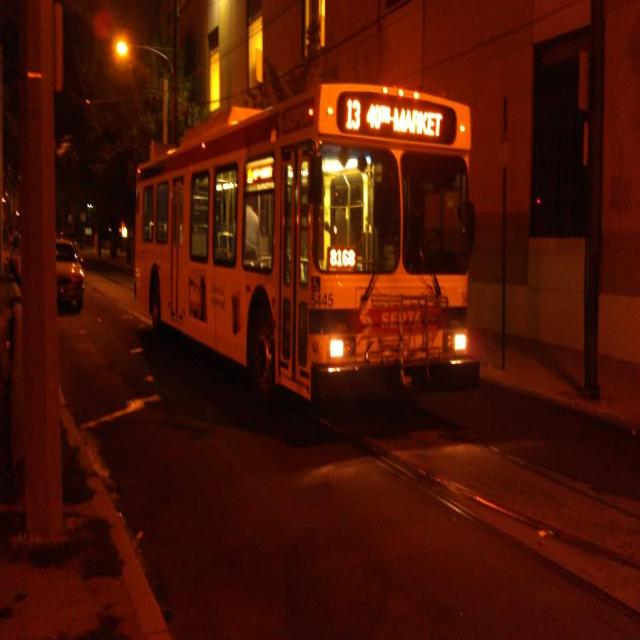Bus: (115, 94, 528, 448)
car: (41, 222, 79, 344), (101, 172, 136, 274)
